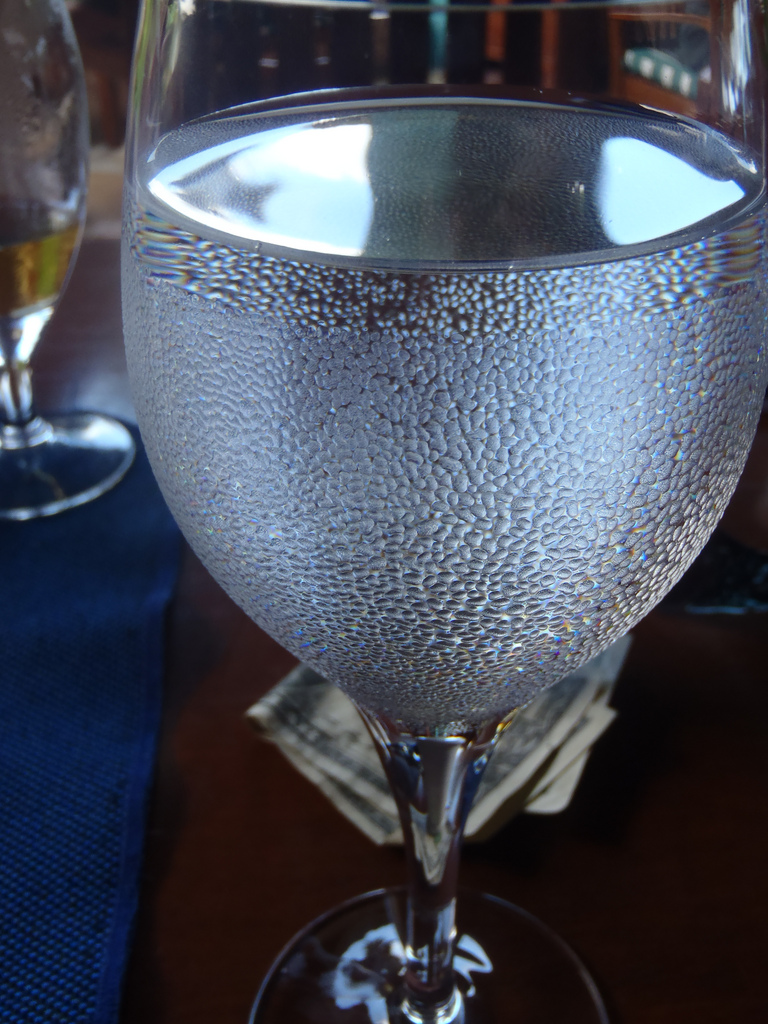glass of water: (113, 26, 768, 1011)
